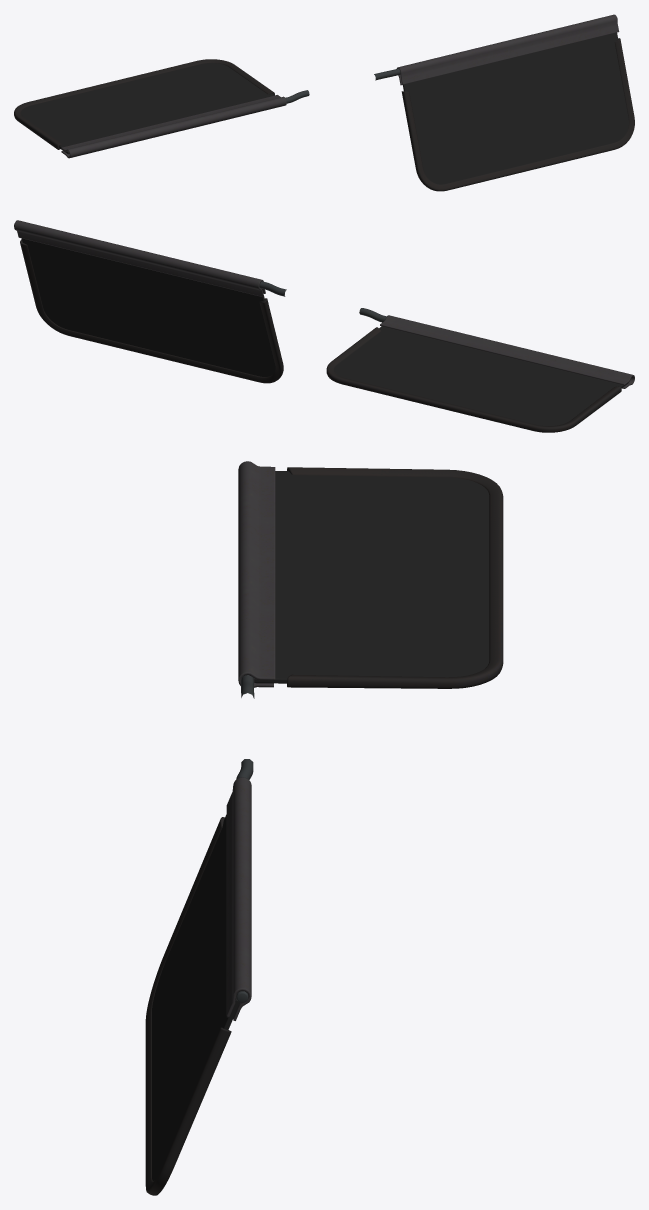
Rendered from Models.gltf.
3 renders of one model, top to bottom at view 1: azimuth 30°, elevation 25°; view 2: azimuth 150°, elevation 25°; view 3: azimuth 270°, elevation 25°, orthographic. The views are drawn at different scales.
Parts seen in each view (by area): view 1: Sun_visors_Pilot, Sun_visors_CoPilot; view 2: Sun_visors_Pilot, Sun_visors_CoPilot; view 3: Sun_visors_CoPilot, Sun_visors_Pilot.
Boxes of the visible parts, <box> form: Sun_visors_Pilot: <box>374,14,634,191</box>; Sun_visors_CoPilot: <box>14,59,309,158</box>; Sun_visors_Pilot: <box>14,220,286,383</box>; Sun_visors_CoPilot: <box>326,308,634,432</box>; Sun_visors_CoPilot: <box>238,461,503,698</box>; Sun_visors_Pilot: <box>145,759,253,1195</box>.
Size of what is drawn, in the model's own units: 0.8586 by 0.1685 by 0.2428.
